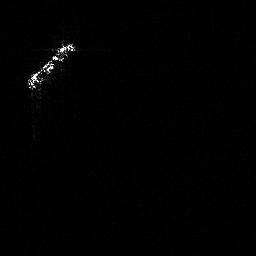ship: (24, 39, 79, 93)
